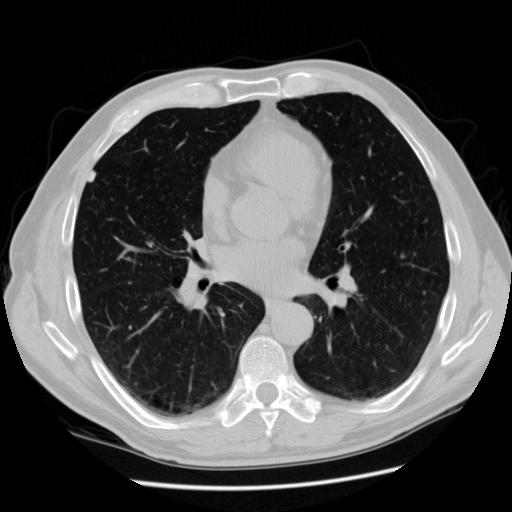nodule: (84, 169, 100, 185)
